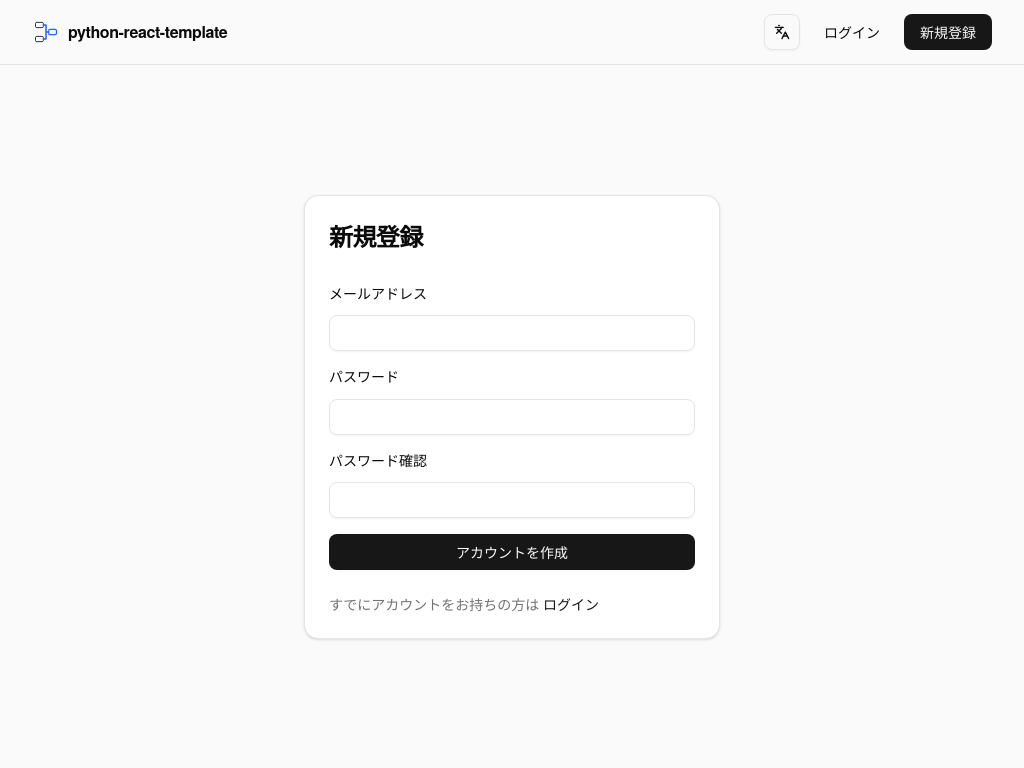
it: email_already_registered は専用メッセージを表示する
The image size is (1024, 768).
In the field labelled "メールアドレス": (512,333) x1=329 y1=315 x2=695 y2=351, type "user@example.com"
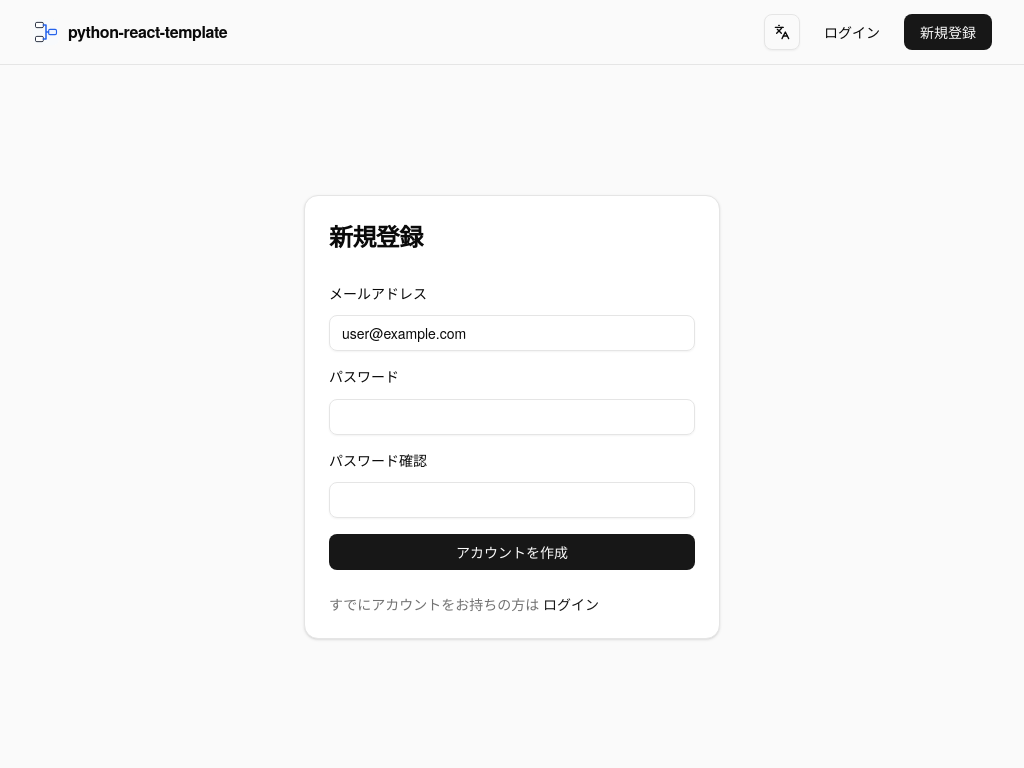
In the password field labelled "パスワード": (512,417) x1=329 y1=399 x2=695 y2=435, type "Password123!"
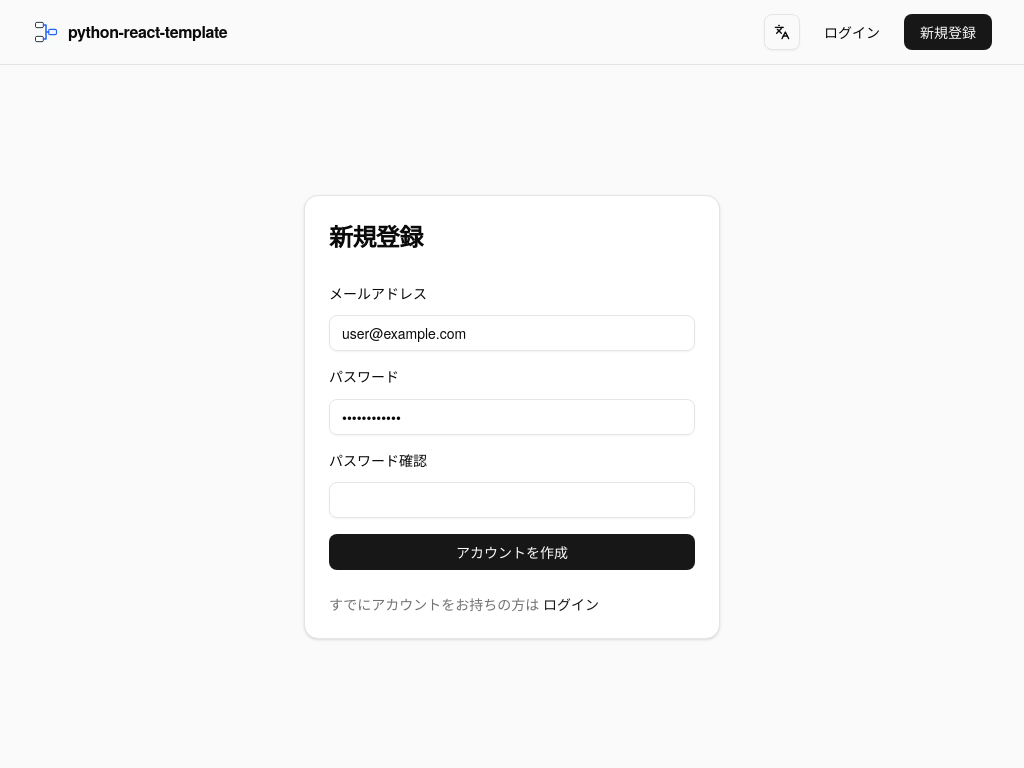
In the password field labelled "パスワード確認": (512,500) x1=329 y1=482 x2=695 y2=518, type "Password123!"
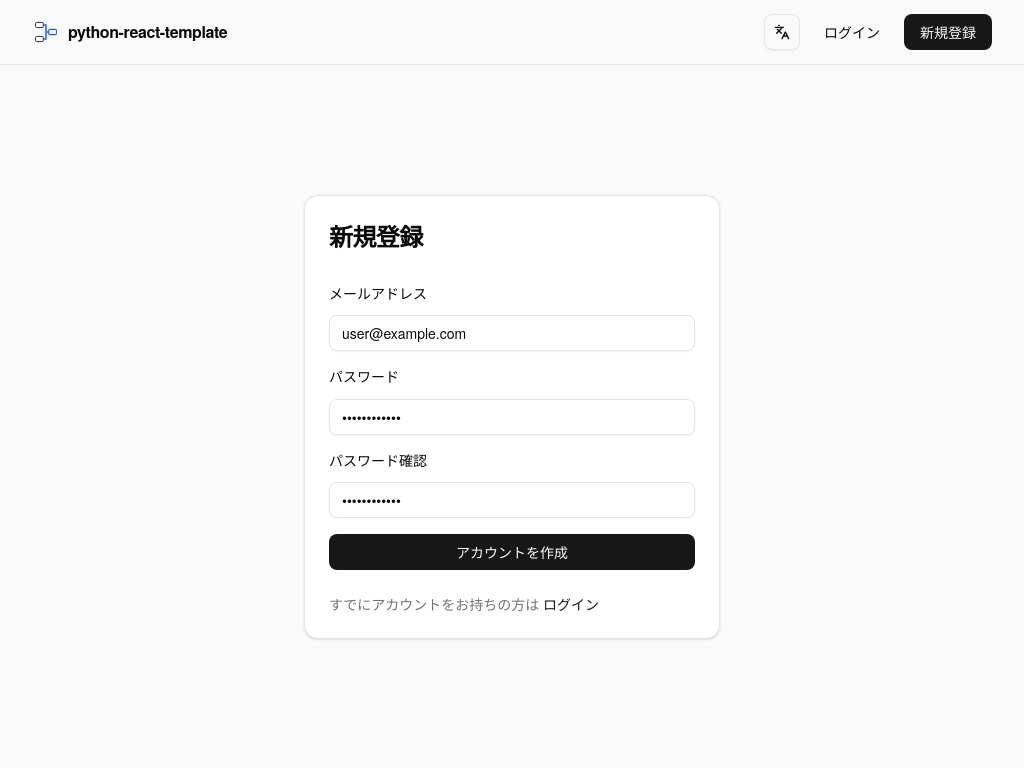
Click the button "アカウントを作成": (512,552) x1=329 y1=534 x2=695 y2=570
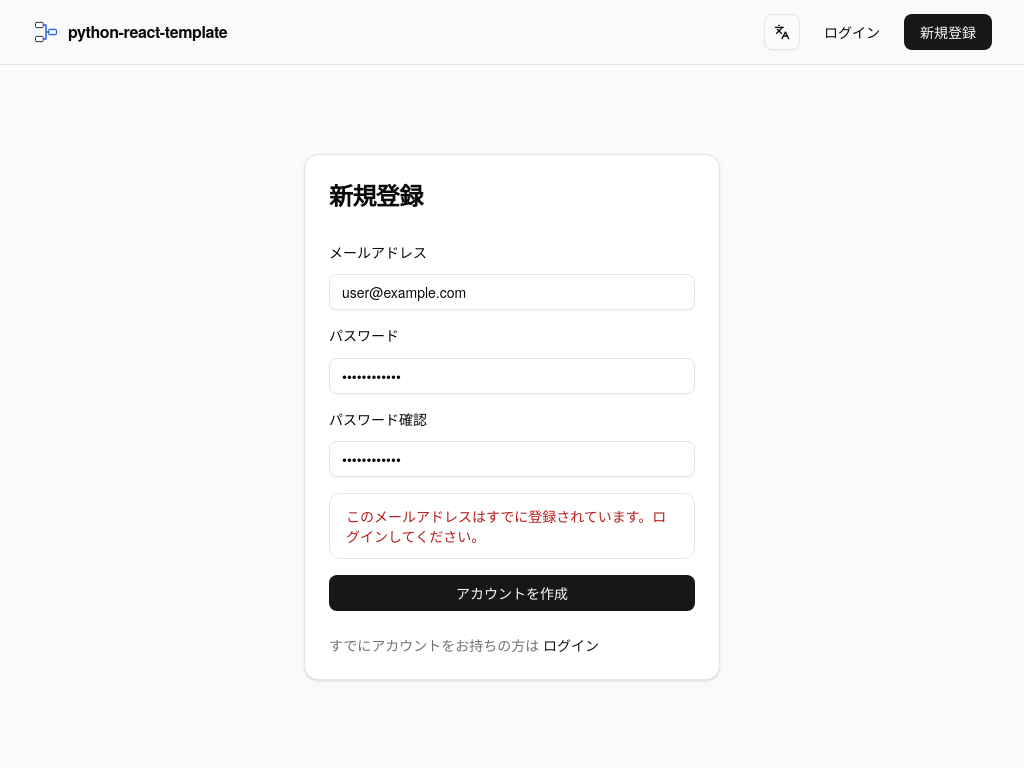
Expected: the message reads "このメールアドレスはすでに登録されています。ログインしてください。", x1=346 y1=506 x2=666 y2=546
